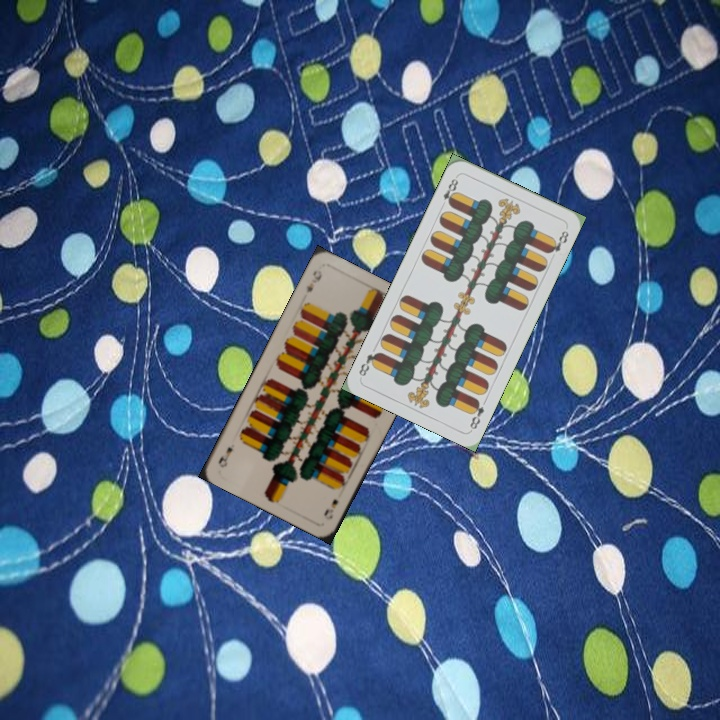E8: (437, 172, 461, 209), (466, 396, 487, 432)
E9: (302, 266, 325, 296), (320, 495, 341, 522)
